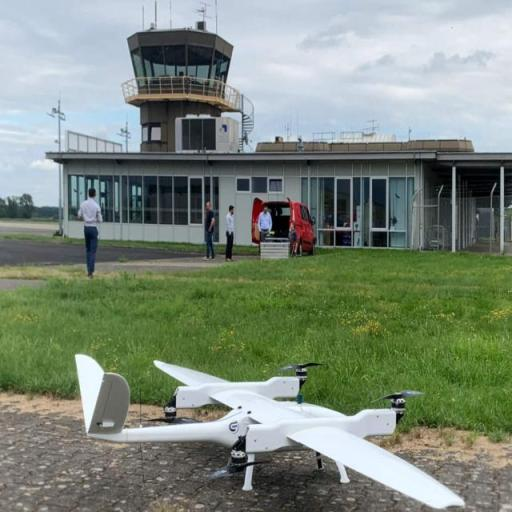uav: (60, 345, 471, 512)
